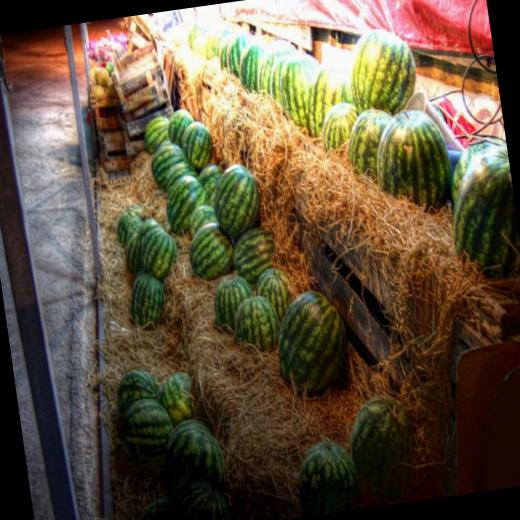Cherry: (69, 82, 425, 520), (182, 0, 520, 325), (337, 16, 422, 118)
